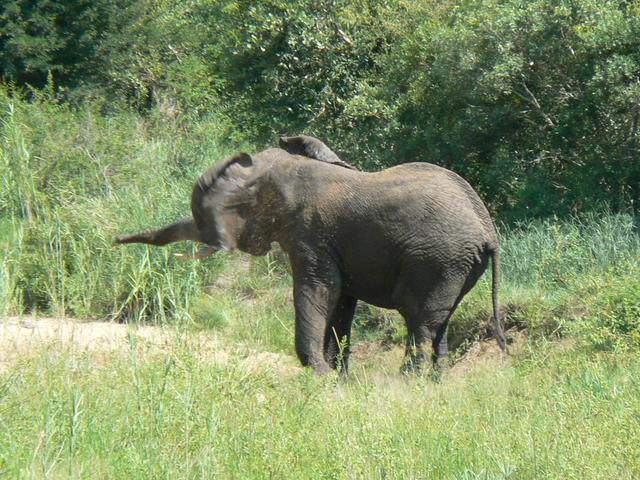elephant: (102, 107, 576, 383)
